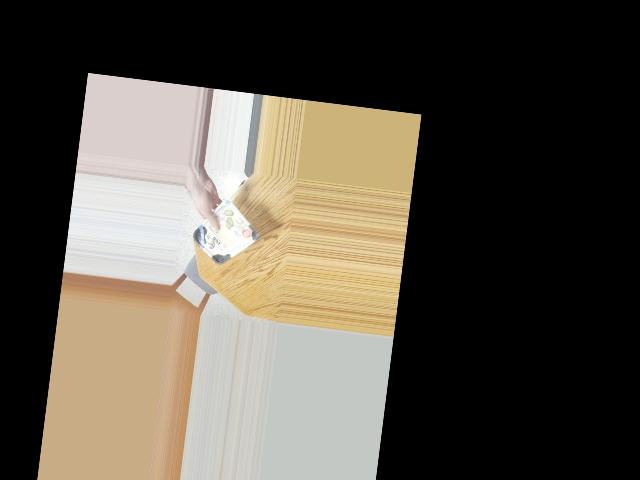cheese: (194, 214, 254, 259)
